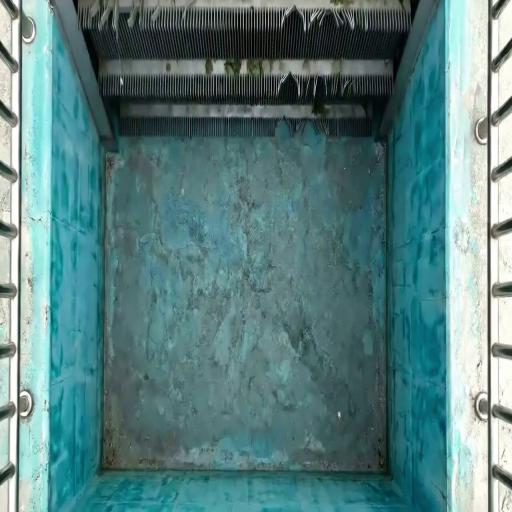rake_broken: (274, 3, 369, 34)
